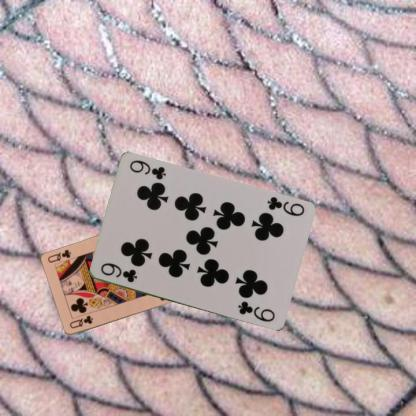9c: (264, 194, 306, 218), (98, 260, 138, 284)
Qc: (67, 313, 94, 330)
